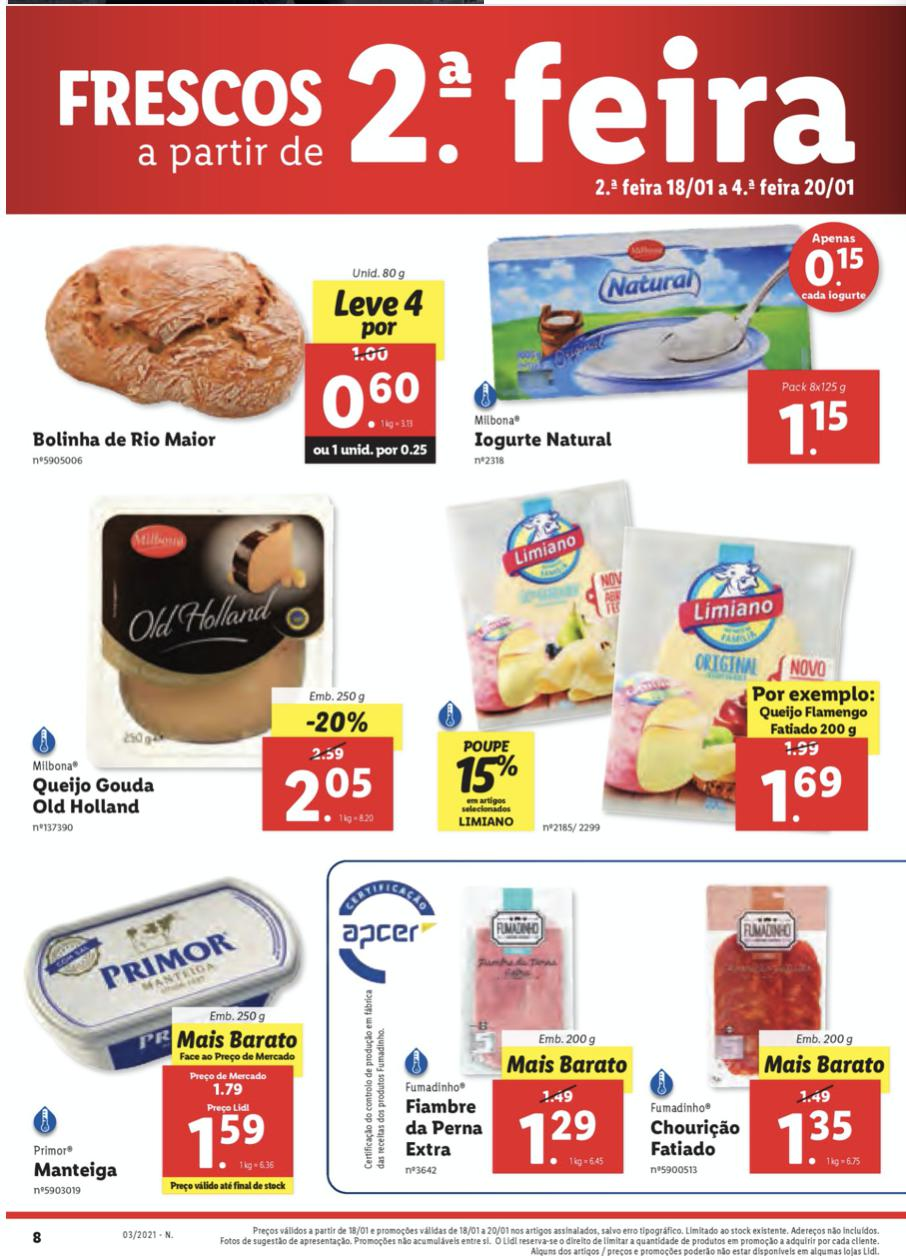name: (24, 422, 224, 455), (393, 1094, 487, 1161), (28, 776, 159, 820), (646, 1115, 745, 1159), (468, 426, 617, 455), (26, 1156, 124, 1184)
price: (742, 365, 887, 470), (157, 1101, 295, 1183), (260, 761, 398, 836), (740, 761, 876, 836), (306, 364, 440, 440), (498, 1101, 628, 1176), (751, 1105, 881, 1175)
product: (407, 484, 884, 859), (9, 498, 407, 859), (453, 220, 892, 476), (9, 223, 453, 476), (7, 873, 312, 1197), (634, 873, 881, 1181), (392, 870, 634, 1181)
promotion: (440, 750, 529, 797), (299, 706, 373, 739)
